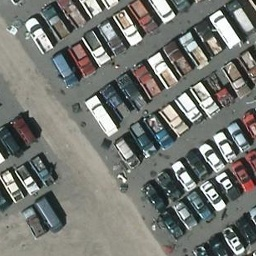car: (130, 1, 164, 35), (37, 4, 71, 38), (204, 6, 238, 40), (113, 12, 147, 46), (19, 16, 53, 50), (191, 16, 225, 50), (98, 25, 132, 59), (174, 28, 208, 62), (81, 36, 115, 70), (159, 39, 193, 73), (67, 45, 101, 79), (145, 52, 179, 86), (50, 55, 84, 89), (128, 60, 162, 94), (115, 72, 149, 106), (206, 77, 240, 111), (97, 82, 131, 116), (191, 85, 225, 119), (177, 95, 211, 129), (84, 97, 118, 131), (158, 105, 192, 139), (10, 112, 44, 146), (145, 117, 179, 151), (126, 124, 160, 158), (208, 131, 242, 165), (109, 138, 143, 172), (197, 141, 231, 175), (182, 149, 216, 183), (29, 155, 63, 189), (169, 160, 203, 194), (12, 163, 46, 197), (211, 168, 245, 202), (152, 170, 186, 204), (197, 178, 231, 212), (138, 182, 172, 216), (182, 188, 216, 222), (169, 198, 203, 232), (36, 202, 70, 236), (18, 203, 52, 237), (154, 208, 188, 242), (0, 171, 30, 205), (0, 123, 27, 157), (52, 0, 86, 26), (148, 0, 182, 25), (70, 0, 104, 14), (0, 179, 13, 213), (159, 0, 193, 12), (0, 133, 9, 167), (83, 0, 117, 5), (0, 0, 29, 5), (0, 87, 4, 121), (179, 0, 213, 3)
